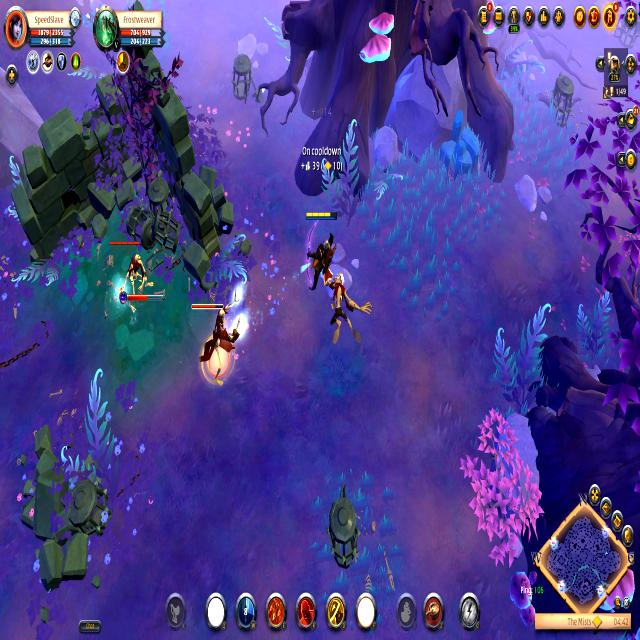ore: (104, 231, 169, 325), (190, 280, 246, 386)
red: (302, 205, 344, 303)
